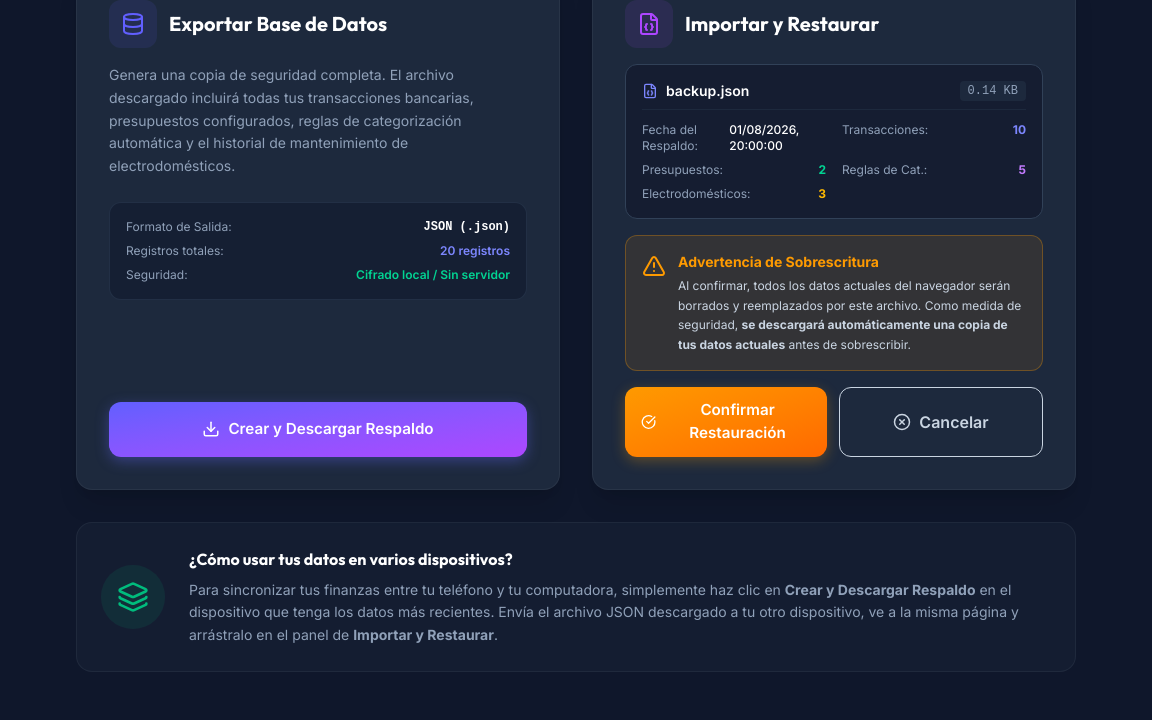
Test case: BackupPage component › should handle JSON backup upload and confirm import successfully
The width and height of the screenshot is (1152, 720).
Earlier steps of the test are not shown.
(page scrolled)
Expected: the text "Advertencia de Sobrescritura" is shown, [678,253,879,270]
Expected: the text "backup.json" is shown, [666,81,749,101]
Click the button "Confirmar Restauración": (726, 422) [625,387,827,457]
(page scrolled)
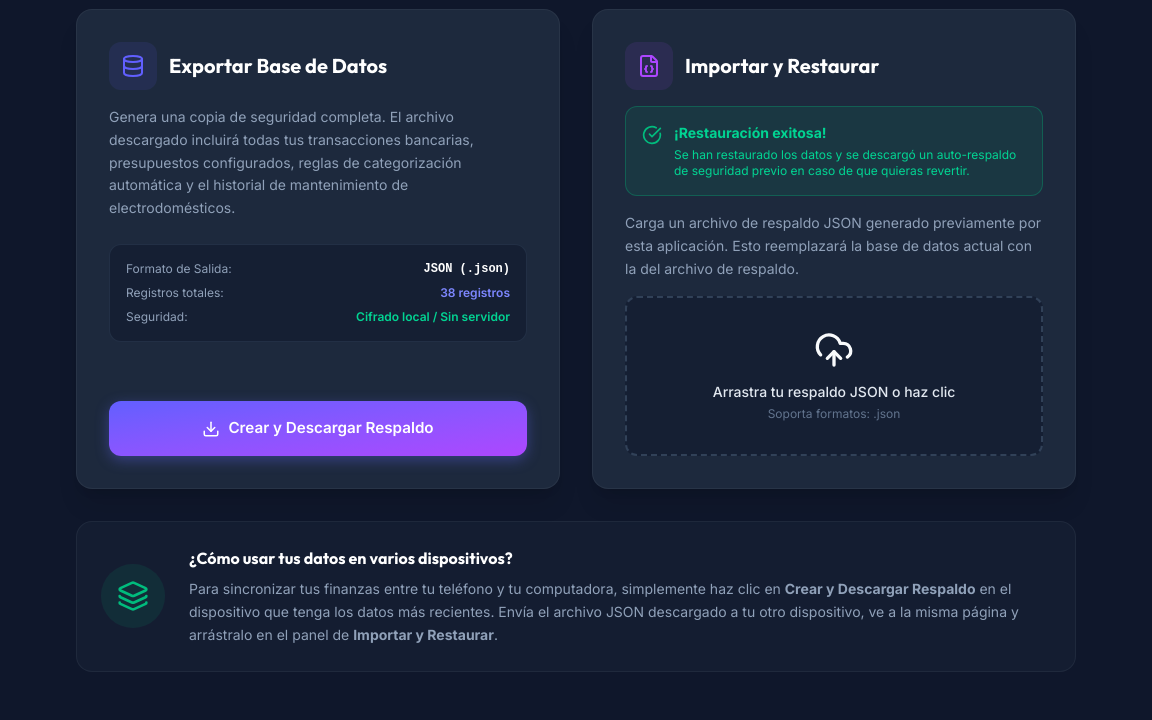
Expected: the text "¡Restauración exitosa!" is shown, [674,124,826,141]
